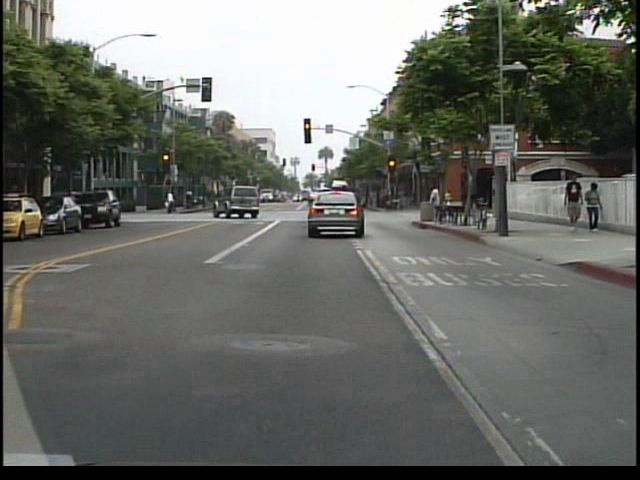person: (562, 171, 588, 232), (584, 179, 608, 234), (429, 181, 450, 224), (165, 185, 181, 218)
